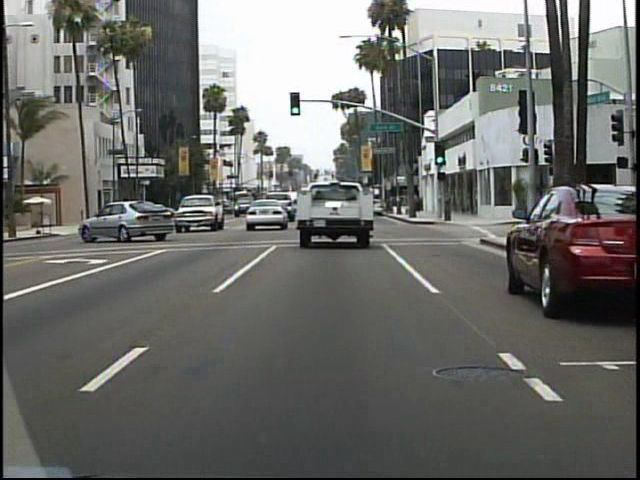person: (442, 185, 457, 224)
